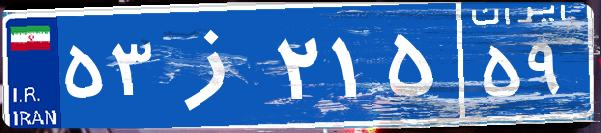1: (330, 28, 385, 110)
2: (273, 28, 330, 110)
3: (110, 28, 158, 105)
5: (385, 28, 445, 110), (57, 26, 110, 107), (475, 38, 525, 113)
9: (525, 38, 570, 115)
ز: (158, 15, 273, 115)
